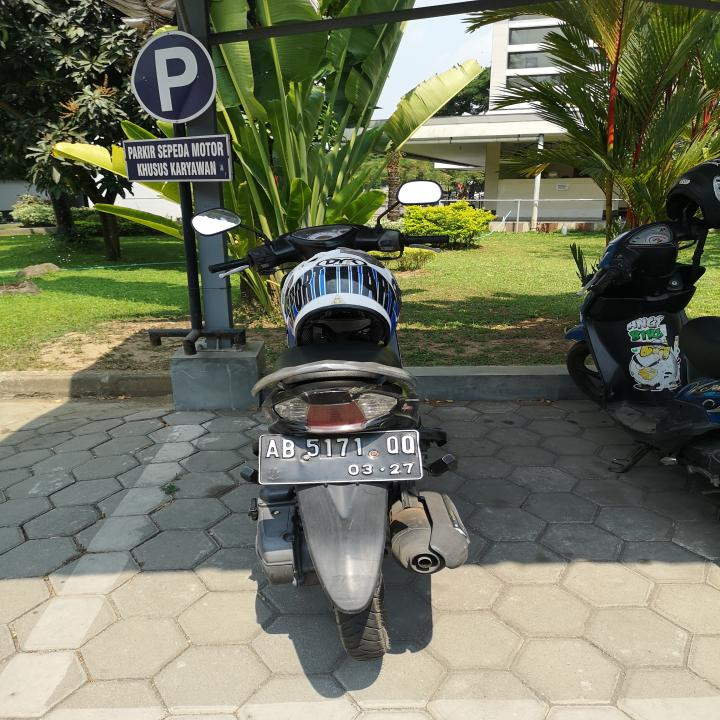plate: (255, 429, 425, 486)
